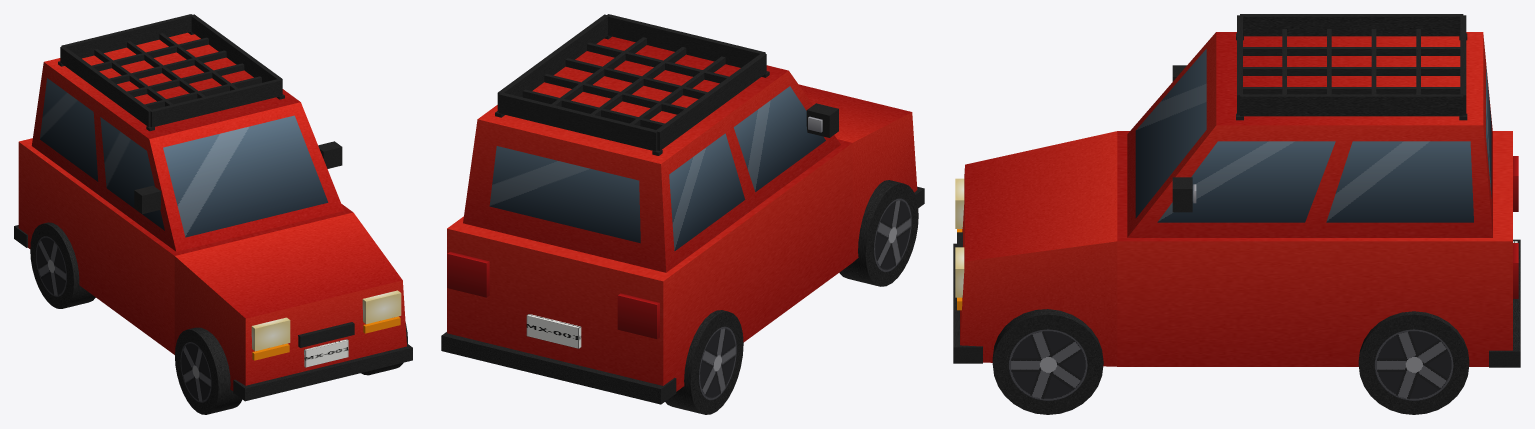
The model's file is carro.obj.
3 renders of one model, left to right at view 1: azimuth 30°, elevation 25°; view 2: azimuth 150°, elevation 25°; view 3: azimuth 270°, elevation 25°, orthographic. The views are drawn at different scales.
Parts seen in each view (by area): view 1: carro; view 2: carro; view 3: carro.
Boxes of the visible parts, x1=… form: carro: x1=14, y1=14, x2=412, y2=414; carro: x1=441, y1=14, x2=924, y2=414; carro: x1=953, y1=14, x2=1520, y2=414.
Size of the model in its own units: 1.48 by 1.68 by 2.87.
1 material, 1 textured.
